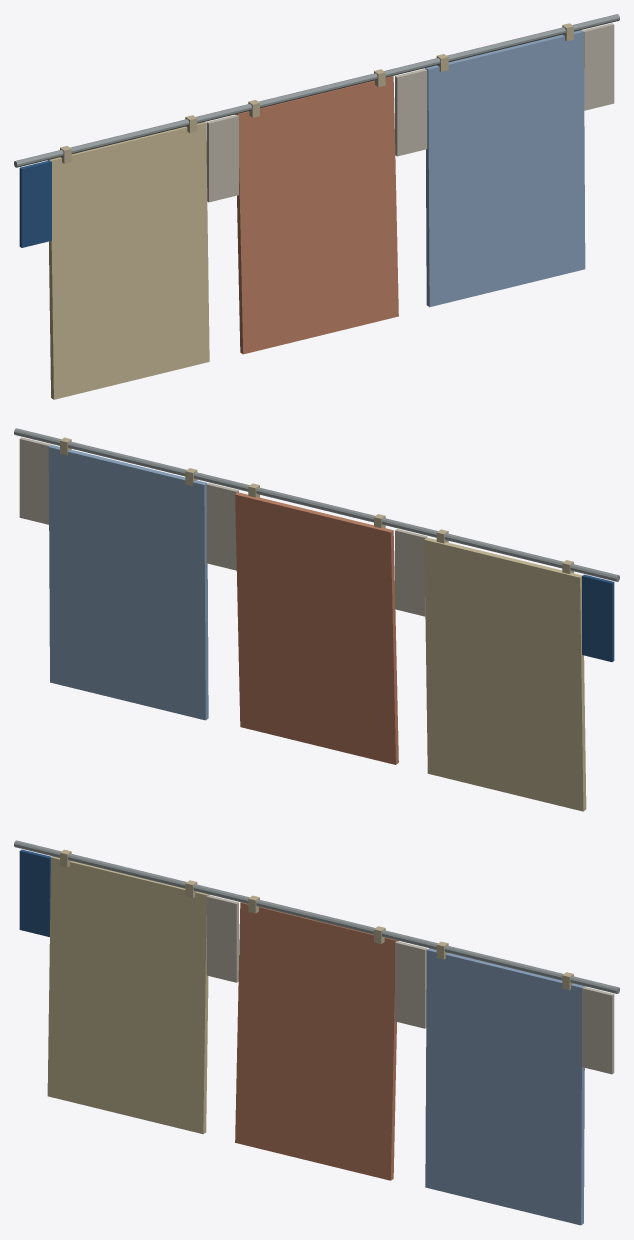
File: day_phoi_a.glb
3 renders of one model, top to bottom at view 1: azimuth 30°, elevation 25°; view 2: azimuth 150°, elevation 25°; view 3: azimuth 330°, elevation 25°, orthographic.
Parts seen in each view (by area): view 1: day_phoi_a; view 2: day_phoi_a; view 3: day_phoi_a.
Part boxes in pixels (x1,y1,x2,y2): day_phoi_a: (14, 14, 619, 399); day_phoi_a: (14, 428, 619, 811); day_phoi_a: (14, 840, 619, 1225).
Bounding box in the file's own units: 2.4 × 0.9351 × 0.0557.
